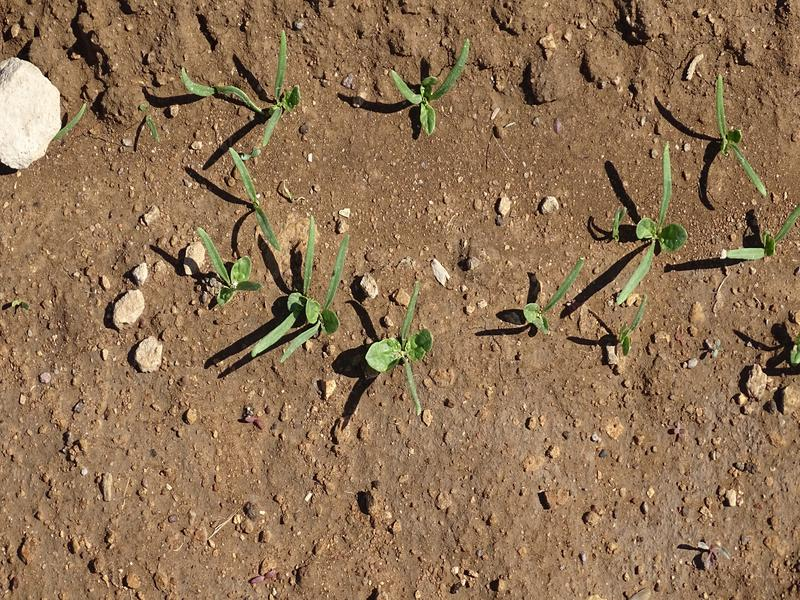Espinaca: (176, 199, 454, 405), (517, 151, 685, 368), (711, 101, 800, 268), (170, 42, 303, 144), (376, 42, 476, 130)
